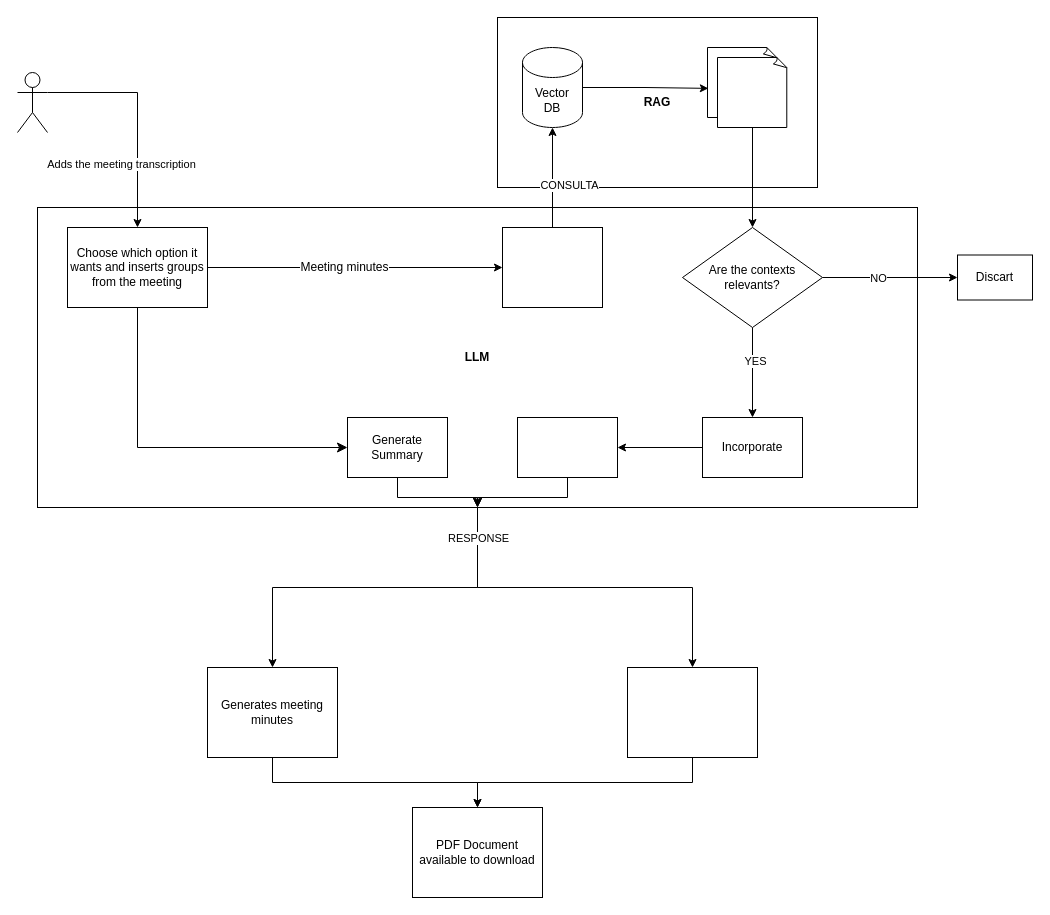
The diagram is 1050 pixels wide and 915 high, and some of its shapes have lost their labels. The centre of each missing label's shape, as x and y in pixels:
Contexts: point (752, 92)
Generate meeting minutes: point (567, 447)
Generate summary, custom request or action items: point (692, 712)
Prompt to query the vector DB based on the citations: point (552, 267)
User: point (32, 102)
